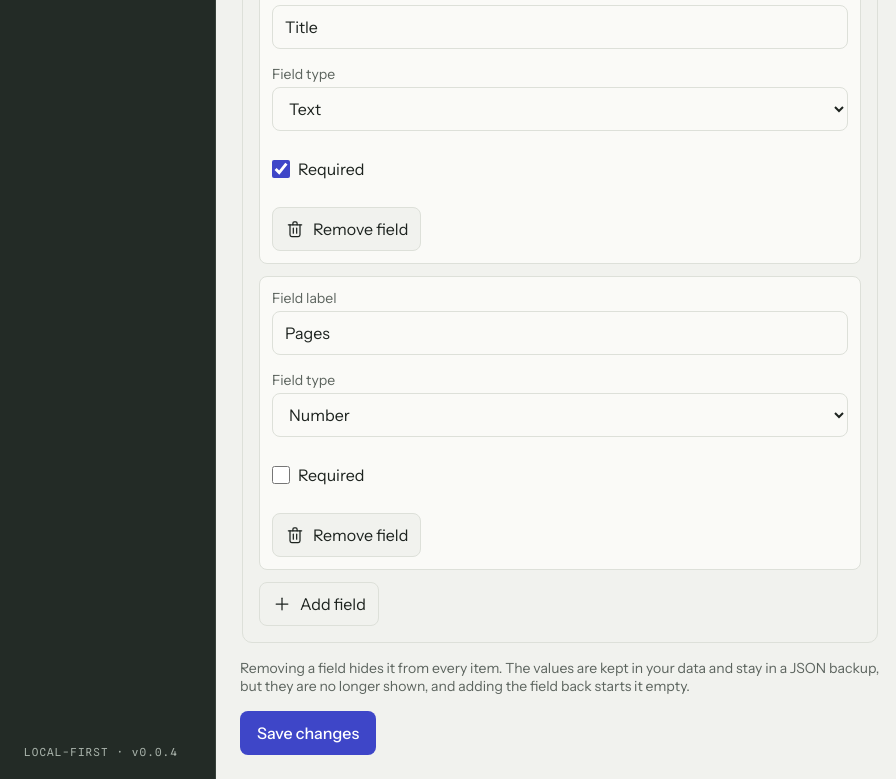
Test: EditCollectionPage › surfaces a failed save without leaving the page
(page scrolled)
Click the button "Save changes". click: point(308, 733)
box: left=240, top=711, right=376, bottom=755
(page scrolled)
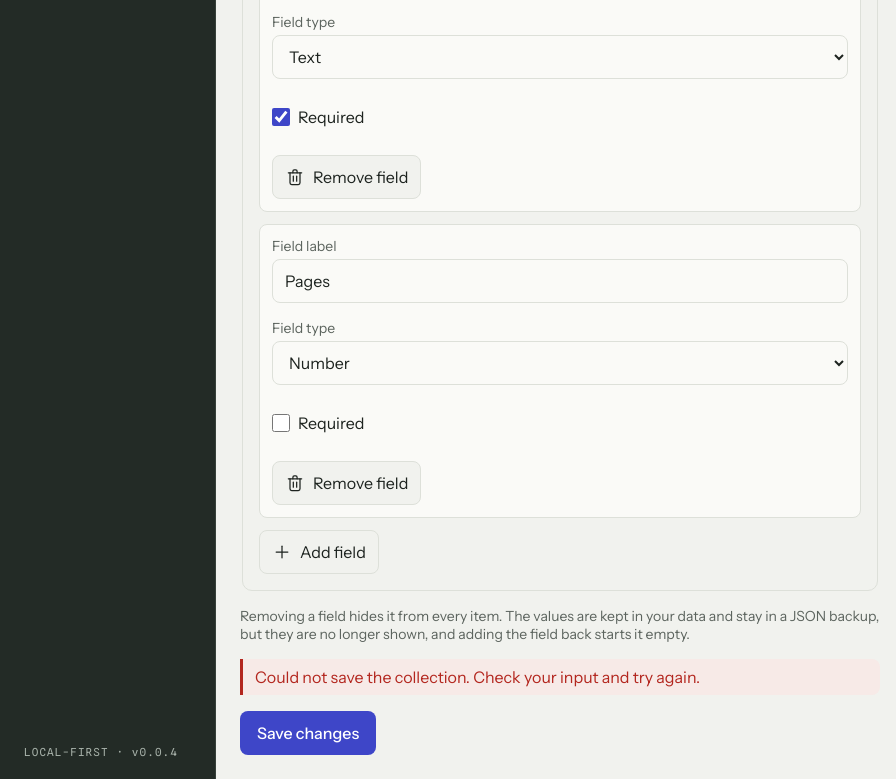
expect the message shows "Could not save": met, box left=255, top=667, right=700, bottom=687
